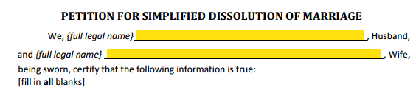textline: (103, 47, 385, 60), (132, 30, 369, 42)
